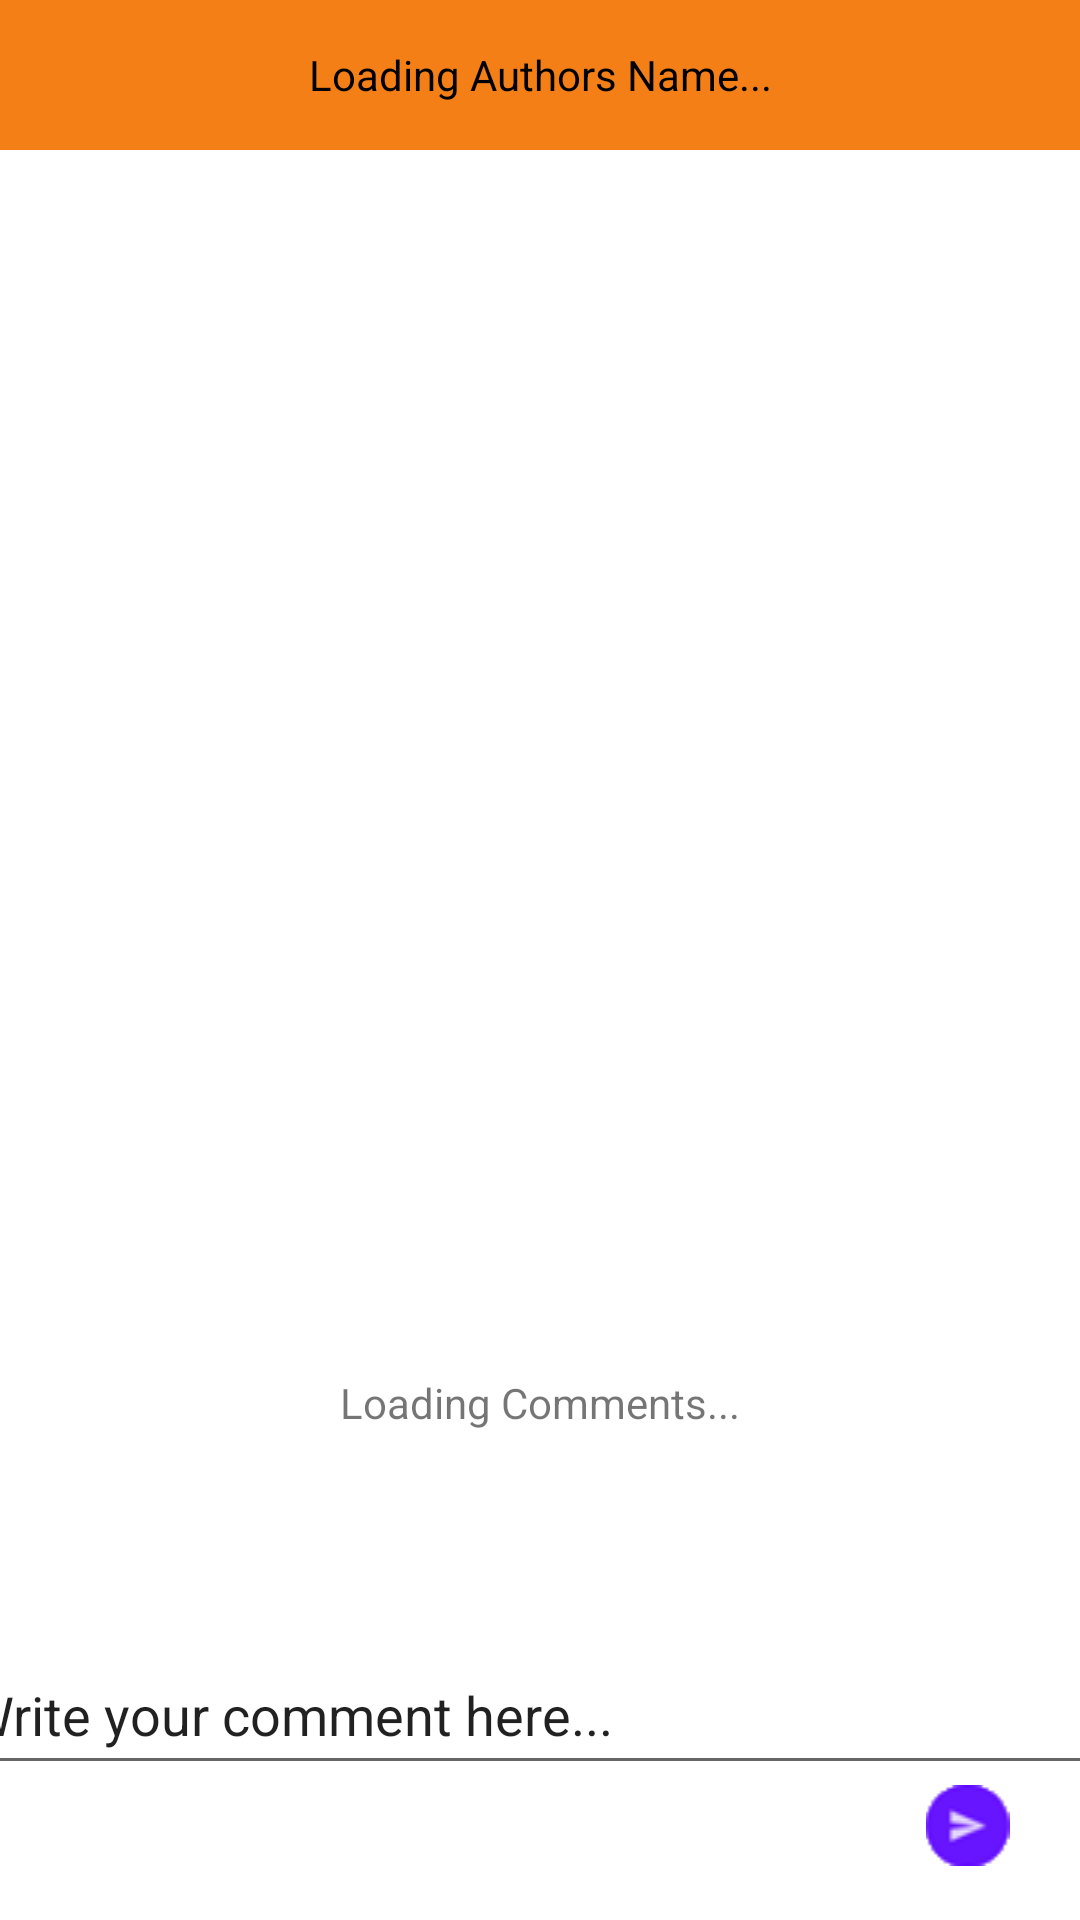

Screen size 1080*1920. Icon name, then its box in pixels as (x1, y1, x2, y2):
send: (926, 1785, 1010, 1866)
